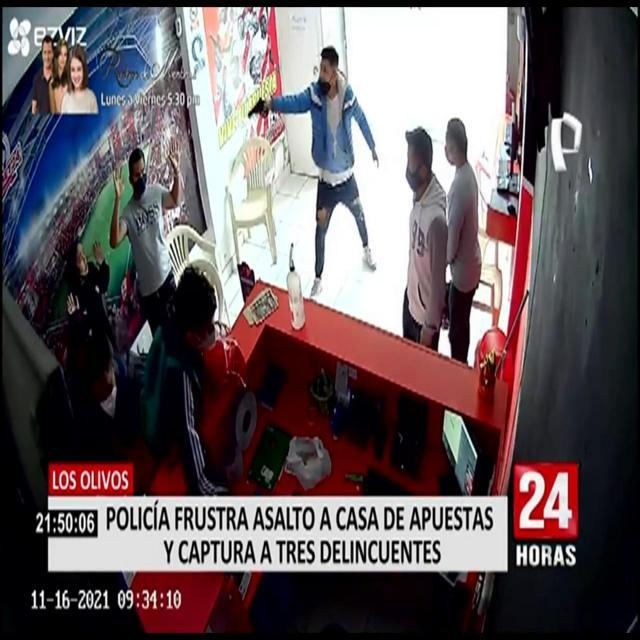weapon: (242, 86, 273, 136)
